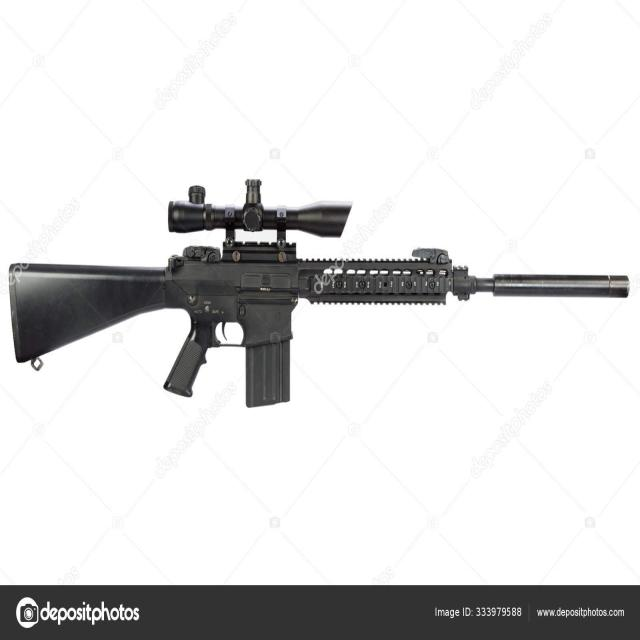Rifle: (8, 181, 630, 410)
